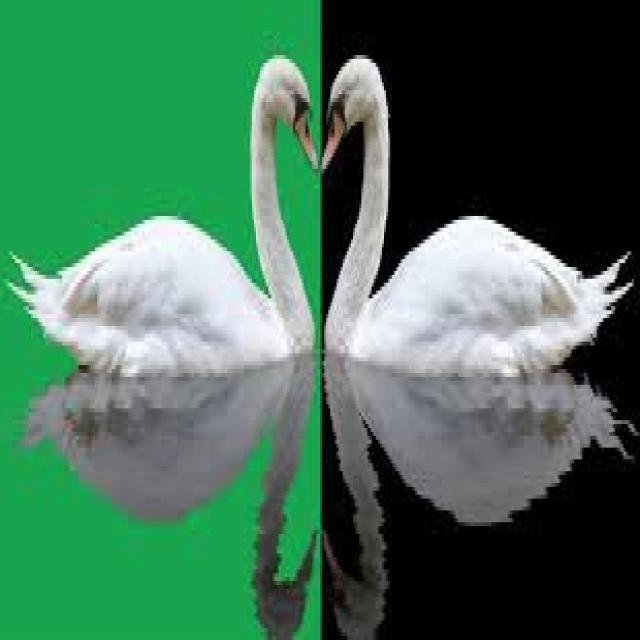swan: (322, 56, 630, 373), (12, 55, 318, 369)
